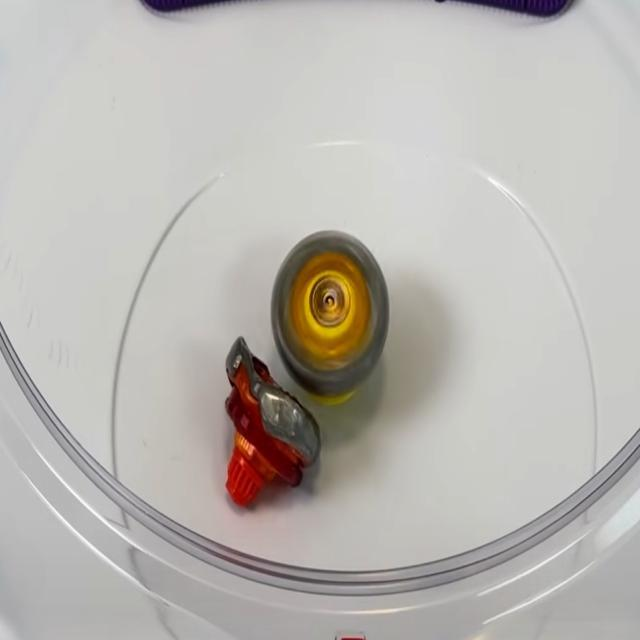Beyblade: (271, 230, 390, 402), (220, 338, 320, 510)
